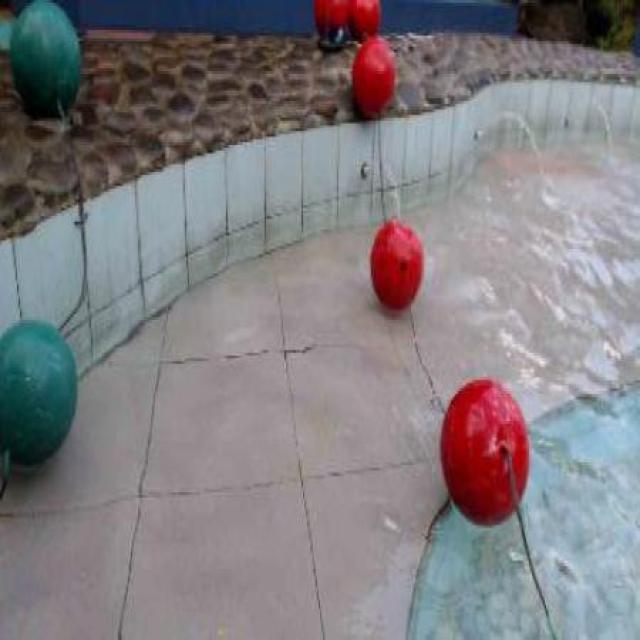buoy: (439, 378, 530, 526), (0, 317, 77, 465), (10, 1, 80, 120), (368, 214, 423, 311), (350, 36, 394, 118), (314, 1, 351, 37), (348, 0, 381, 38)
